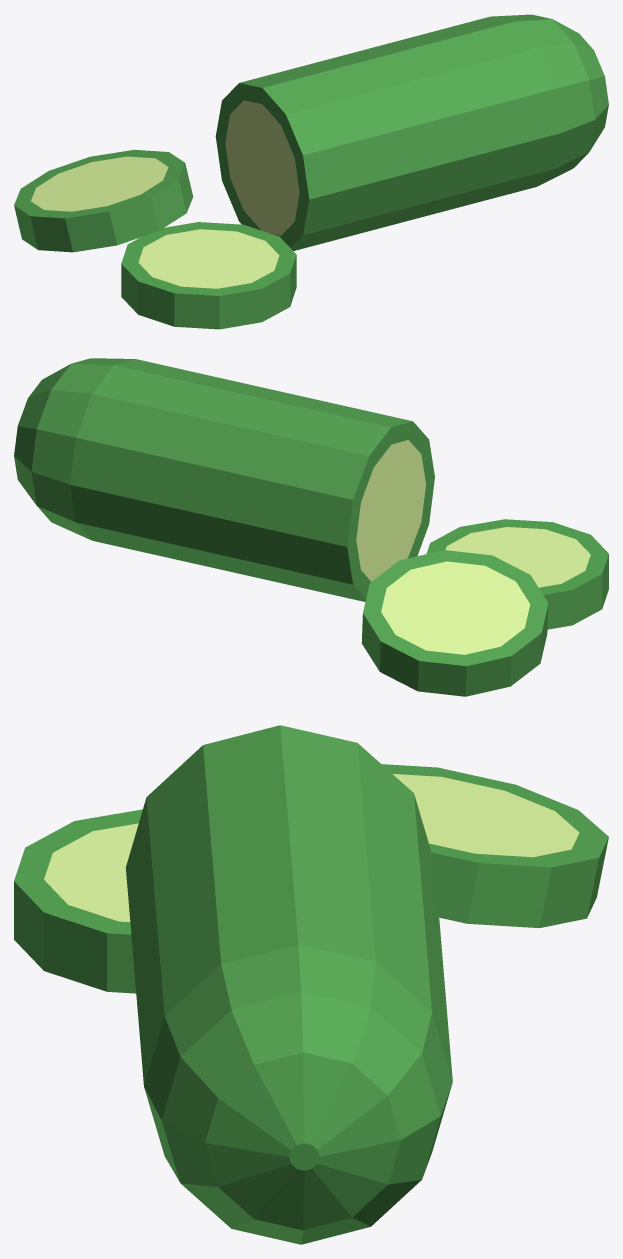
Rendered from SM_Cucumber_Slicing.fbx.
3 views of the same model, one above another, from view 1: azimuth 30°, elevation 25°; view 2: azimuth 150°, elevation 25°; view 3: azimuth 270°, elevation 25° (orthographic). The views are drawn at different scales.
Visible parts, largest first — view 1: half sliced cucumber; view 2: half sliced cucumber; view 3: half sliced cucumber.
Boxes of the visible parts, x1,y1,x2,y2 form: half sliced cucumber: (14,14,608,329); half sliced cucumber: (14,358,608,696); half sliced cucumber: (14,725,608,1244).
Size of the model in its own units: 64.64 by 18.69 by 35.97.
